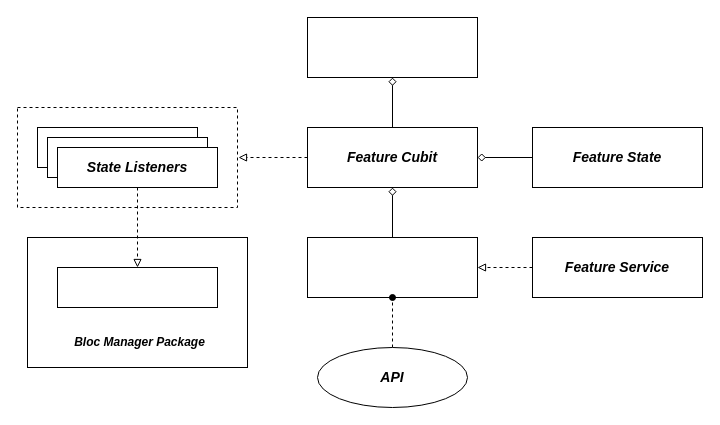
The diagram is 720 pixels wide and 425 high, and some of its shapes have lost their labels. Each missing label, with the box of its shape:
Base Feature Service: (306, 236, 478, 298)
Base State Listeners: (56, 266, 218, 308)
UI Components: (306, 16, 478, 78)
